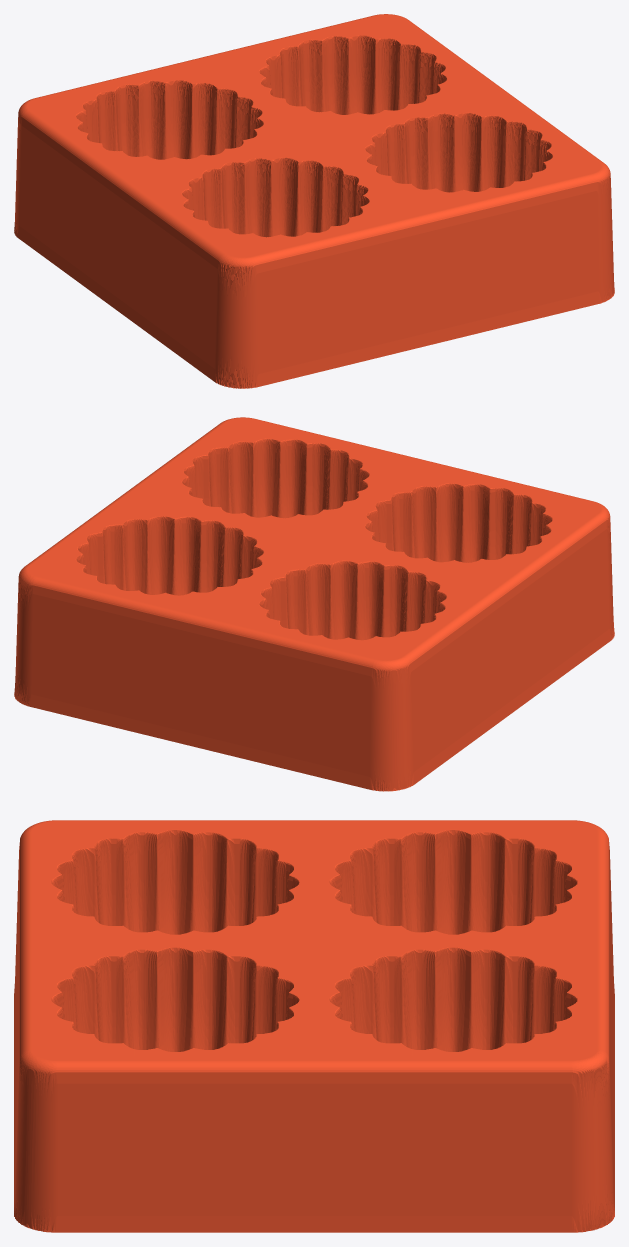
Rendered from mold.glb.
The picture shows the model from 3 angles, top to bottom: view 1: azimuth 30°, elevation 25°; view 2: azimuth 150°, elevation 25°; view 3: azimuth 270°, elevation 25°; orthographic projection. The views are drawn at different scales.
Visible parts, largest first — view 1: geometry_0; view 2: geometry_0; view 3: geometry_0.
Part boxes in pixels (bbox=[...]): geometry_0: bbox=[14, 14, 614, 388]; geometry_0: bbox=[14, 417, 614, 791]; geometry_0: bbox=[14, 820, 614, 1232].
Size of the model in its own units: 0.1248 by 0.0378 by 0.1248.
